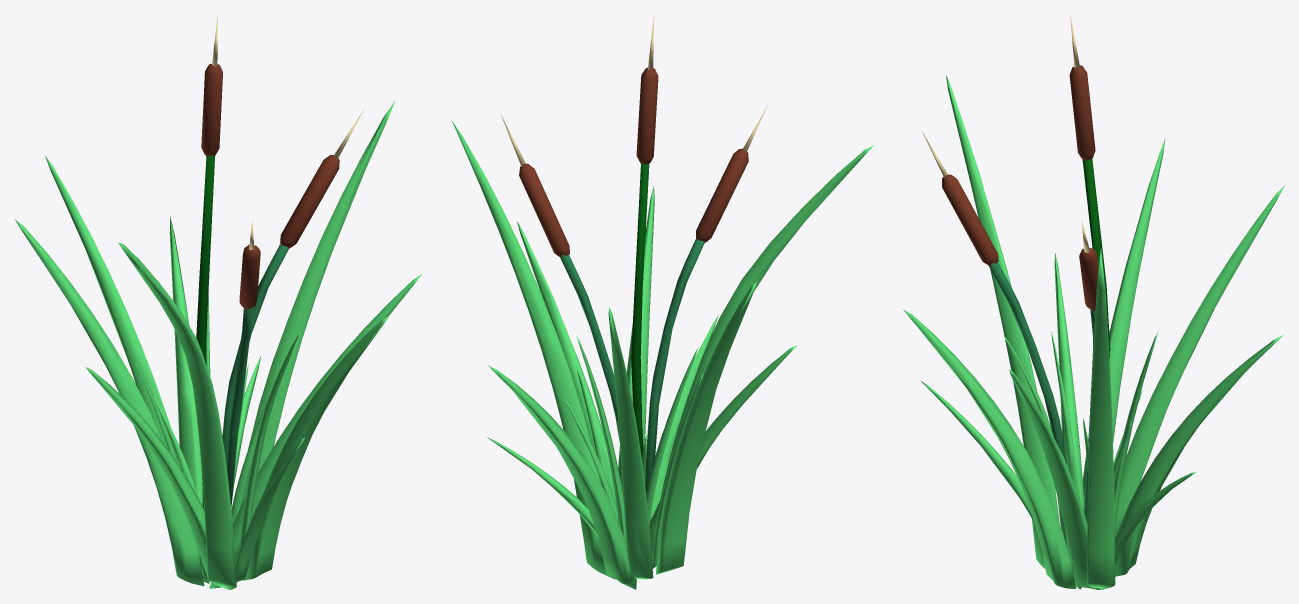
Rendered from reed_cattail.glb.
3 views of the same model, side by side, from view 1: azimuth 30°, elevation 25°; view 2: azimuth 150°, elevation 25°; view 3: azimuth 270°, elevation 25° (orthographic). The views are drawn at different scales.
Visible parts, largest first — view 1: NurbsPath, NurbsPath.001, Cylinder, Cylinder.003, Cylinder.004, Cylinder.001, Cylinder.002, Cylinder.005; view 2: NurbsPath, NurbsPath.001, Cylinder, Cylinder.004, Cylinder.005, Cylinder.003, Cylinder.001, Cylinder.002; view 3: NurbsPath, NurbsPath.001, Cylinder.004, Cylinder.005, Cylinder.001, Cylinder, Cylinder.003.
Boxes of the visible parts, bbox=[...] form: NurbsPath: bbox=[15, 101, 421, 589]; NurbsPath.001: bbox=[135, 292, 300, 575]; Cylinder: bbox=[196, 155, 214, 509]; Cylinder.003: bbox=[280, 155, 339, 248]; Cylinder.004: bbox=[226, 307, 253, 507]; Cylinder.001: bbox=[201, 64, 222, 156]; Cylinder.002: bbox=[222, 244, 288, 462]; Cylinder.005: bbox=[239, 244, 260, 309]; NurbsPath: bbox=[452, 121, 873, 589]; NurbsPath.001: bbox=[564, 328, 703, 568]; Cylinder: bbox=[631, 163, 649, 499]; Cylinder.004: bbox=[645, 238, 704, 520]; Cylinder.005: bbox=[696, 148, 748, 242]; Cylinder.003: bbox=[519, 163, 569, 257]; Cylinder.001: bbox=[636, 67, 658, 164]; Cylinder.002: bbox=[560, 254, 619, 440]; NurbsPath: bbox=[903, 75, 1284, 589]; NurbsPath.001: bbox=[1004, 331, 1158, 573]; Cylinder.004: bbox=[988, 262, 1066, 464]; Cylinder.005: bbox=[942, 174, 998, 266]; Cylinder.001: bbox=[1069, 65, 1095, 160]; Cylinder: bbox=[1082, 159, 1110, 357]; Cylinder.003: bbox=[1079, 247, 1098, 310].
Bounding box in the file's own units: 5.16 × 8.08 × 4.89.
